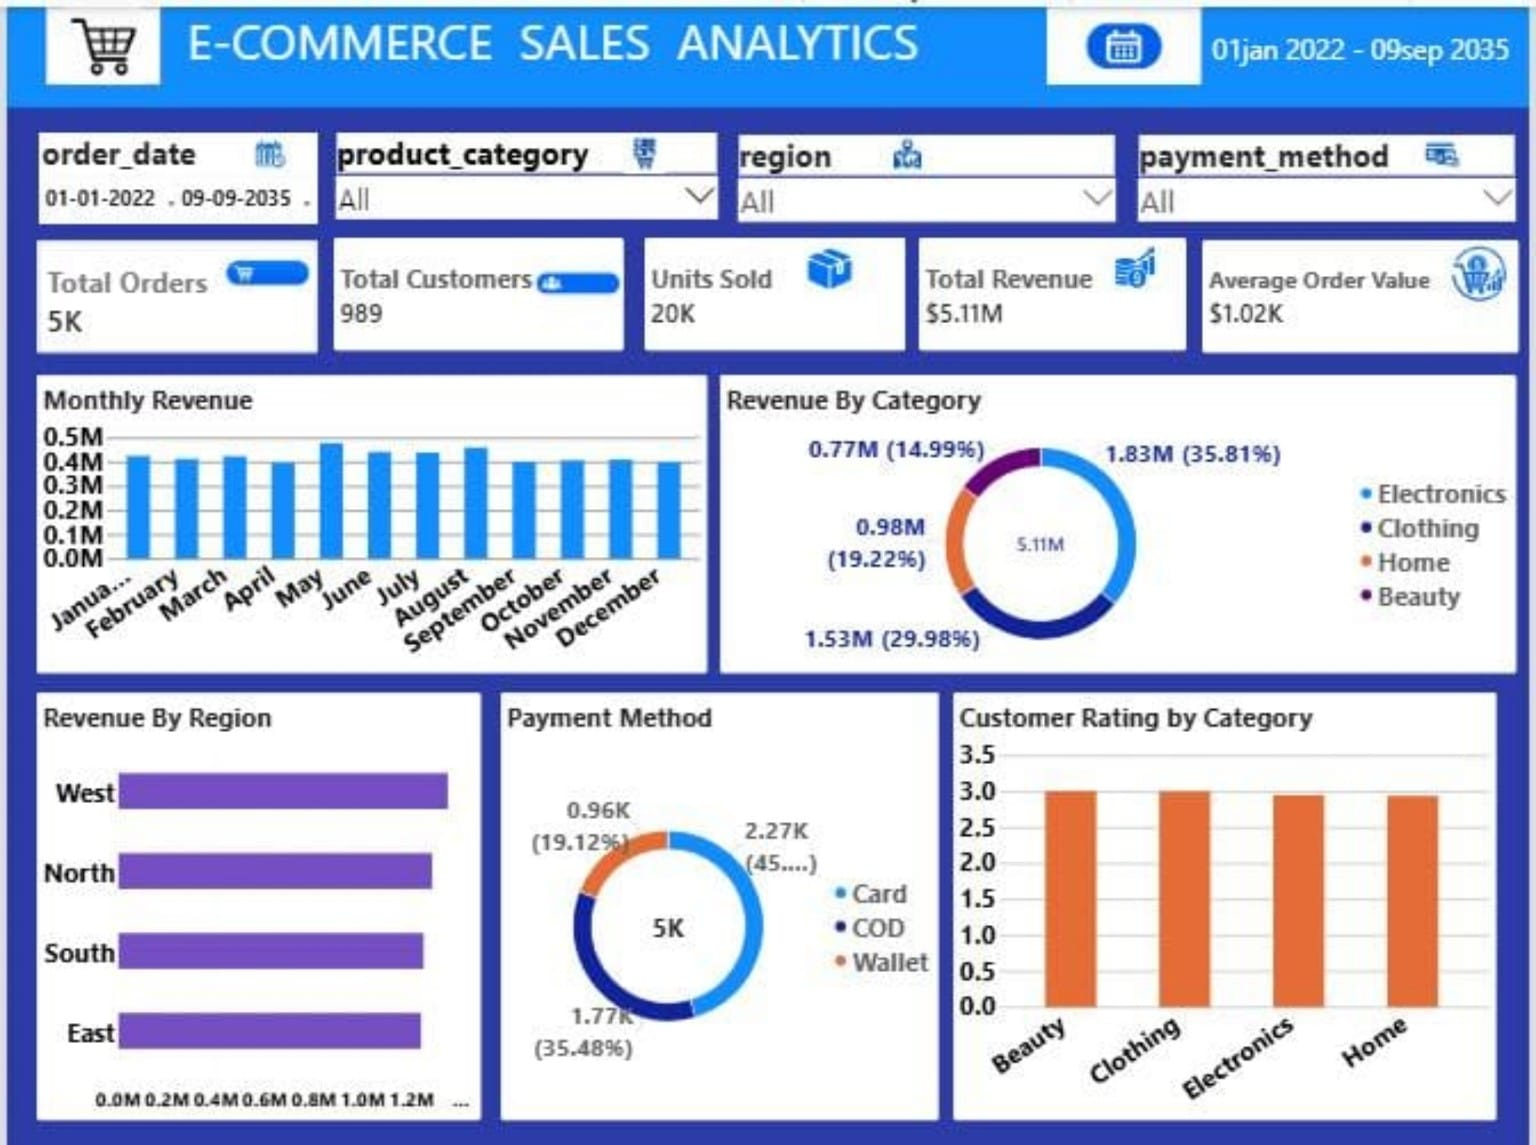

The page's visual inventory and layout, read from the dashboard file:
{"tool":"powerbi","page":{"name":"Page 1","canvas":[4000,3000],"ordinal":0},"visuals":[{"type":"cardVisual","fields":{"Data":["ecommerce_sales_cleaned.Total Orders"]},"box":[78,612,739.8,297],"z":0},{"type":"cardVisual","fields":{"Data":["ecommerce_sales_cleaned.Total Customers"]},"box":[858,606,761.4,297],"z":1},{"type":"cardVisual","fields":{"Data":["ecommerce_sales_cleaned.Units Sold"]},"box":[1674,606,685.8,297],"z":2},{"type":"cardVisual","fields":{"Data":["ecommerce_sales_cleaned.Total Revenue"]},"box":[2394,606,702,297],"z":3},{"type":"cardVisual","fields":{"Data":["ecommerce_sales_cleaned.Average Order Value"]},"box":[3138,612,831.6,297],"z":4},{"type":"clusteredColumnChart","title":"Monthly Revenue ","fields":{"Category":["ecommerce_sales_cleaned.order_date.Variation.Date Hierarchy.Year","ecommerce_sales_cleaned.order_date.Variation.Date Hierarchy.Month"],"Y":["Sum(ecommerce_sales_cleaned.revenue)"]},"box":[78,966,1760.4,783],"z":5},{"type":"donutChart","title":"Revenue By Category","fields":{"Category":["ecommerce_sales_cleaned.product_category"],"Y":["Sum(ecommerce_sales_cleaned.revenue)"]},"box":[1872,966,2089.8,783],"z":6},{"type":"clusteredBarChart","title":"Revenue By Region","fields":{"Category":["ecommerce_sales_cleaned.region"],"Y":["Sum(ecommerce_sales_cleaned.revenue)"]},"box":[78,1800,1166.4,1123.2],"z":7},{"type":"donutChart","title":"Payment Method","fields":{"Category":["ecommerce_sales_cleaned.payment_method"],"Y":["CountNonNull(ecommerce_sales_cleaned.order_id)"]},"box":[1296,1800,1150.2,1123.2],"z":8},{"type":"clusteredColumnChart","title":"Customer Rating by Category","fields":{"Category":["ecommerce_sales_cleaned.product_category"],"Y":["Avg(ecommerce_sales_cleaned.customer_rating)"]},"box":[2484,1800,1425.6,1123.2],"z":9},{"type":"shape","box":[0,0,4001.4,264.6],"z":10},{"type":"textbox","box":[0,313,173,292],"z":12},{"type":"textbox","box":[102.6,0,3898.8,264.6],"z":14},{"type":"image","box":[102.6,0,302.4,205.2],"z":25},{"type":"image","box":[2727,0,405,205.2],"z":26},{"type":"image","box":[558,606,253.8,183.6],"z":27},{"type":"image","box":[1380,612,237.6,226.8],"z":28},{"type":"image","box":[2052,612,216,151.2],"z":29},{"type":"image","box":[2826,612,270,145.8],"z":30},{"type":"image","box":[3762,612,205.2,178.2],"z":31},{"type":"slicer","fields":{"Values":["ecommerce_sales_cleaned.order_date"]},"box":[84,330,732,240],"z":32},{"type":"slicer","fields":{"Values":["ecommerce_sales_cleaned.product_category"]},"box":[858,330,1014,228],"z":33},{"type":"slicer","fields":{"Values":["ecommerce_sales_cleaned.region"]},"box":[1914,336,1002,240],"z":34},{"type":"slicer","fields":{"Values":["ecommerce_sales_cleaned.payment_method"]},"box":[2964,336,1002,228],"z":35},{"type":"image","box":[564,330,252,114],"z":36},{"type":"image","box":[1566,330,216,108],"z":37},{"type":"image","box":[2244,336,240,102],"z":38},{"type":"image","box":[3672,336,192,102],"z":39}]}

Visuals, with their boxes in screenshot pixels (x1, y1, x2, y2), scaled from the page's 4000x3000 canvas onto the 1536x1145 screenshot:
cardVisual - ecommerce_sales_cleaned.Total Orders: x1=30, y1=234, x2=314, y2=347
cardVisual - ecommerce_sales_cleaned.Total Customers: x1=329, y1=231, x2=622, y2=345
cardVisual - ecommerce_sales_cleaned.Units Sold: x1=643, y1=231, x2=906, y2=345
cardVisual - ecommerce_sales_cleaned.Total Revenue: x1=919, y1=231, x2=1189, y2=345
cardVisual - ecommerce_sales_cleaned.Average Order Value: x1=1205, y1=234, x2=1524, y2=347
"Monthly Revenue " clusteredColumnChart: x1=30, y1=369, x2=706, y2=668
"Revenue By Category" donutChart: x1=719, y1=369, x2=1521, y2=668
"Revenue By Region" clusteredBarChart: x1=30, y1=687, x2=478, y2=1116
"Payment Method" donutChart: x1=498, y1=687, x2=939, y2=1116
"Customer Rating by Category" clusteredColumnChart: x1=954, y1=687, x2=1501, y2=1116
shape: x1=0, y1=0, x2=1535, y2=101
textbox: x1=0, y1=119, x2=66, y2=231
textbox: x1=39, y1=0, x2=1535, y2=101
image: x1=39, y1=0, x2=156, y2=78
image: x1=1047, y1=0, x2=1203, y2=78
image: x1=214, y1=231, x2=312, y2=301
image: x1=530, y1=234, x2=621, y2=320
image: x1=788, y1=234, x2=871, y2=291
image: x1=1085, y1=234, x2=1189, y2=289
image: x1=1445, y1=234, x2=1523, y2=302
slicer - ecommerce_sales_cleaned.order_date: x1=32, y1=126, x2=313, y2=218
slicer - ecommerce_sales_cleaned.product_category: x1=329, y1=126, x2=719, y2=213
slicer - ecommerce_sales_cleaned.region: x1=735, y1=128, x2=1120, y2=220
slicer - ecommerce_sales_cleaned.payment_method: x1=1138, y1=128, x2=1523, y2=215
image: x1=217, y1=126, x2=313, y2=169
image: x1=601, y1=126, x2=684, y2=167
image: x1=862, y1=128, x2=954, y2=167
image: x1=1410, y1=128, x2=1484, y2=167
